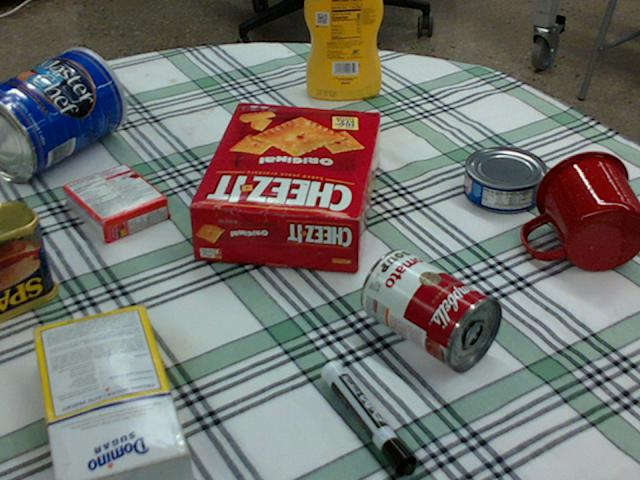cracker_box: (185, 101, 381, 273)
gelatin_box: (63, 162, 169, 244)
large_marker: (322, 361, 415, 478)
master_chef_can: (0, 47, 126, 184)
mug: (523, 151, 639, 271)
mustard_bottle: (304, 0, 382, 100)
potted_meat_can: (0, 200, 58, 321)
sugar_box: (29, 306, 191, 479)
tomato_soup_can: (360, 247, 501, 371)
tuna_fish_can: (464, 146, 547, 213)
